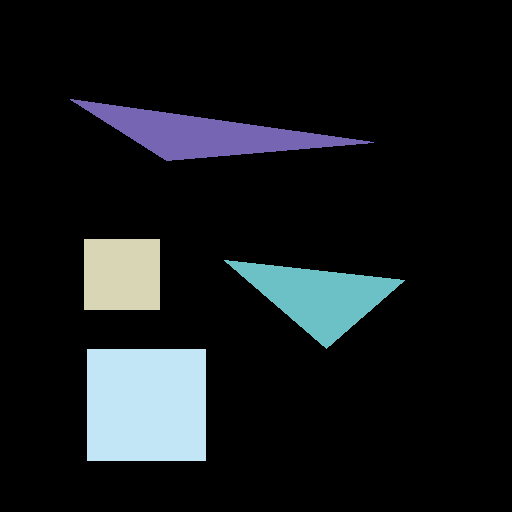square: (87, 349, 205, 460), (84, 239, 159, 309)
triangle: (70, 99, 373, 160), (224, 260, 404, 348)
